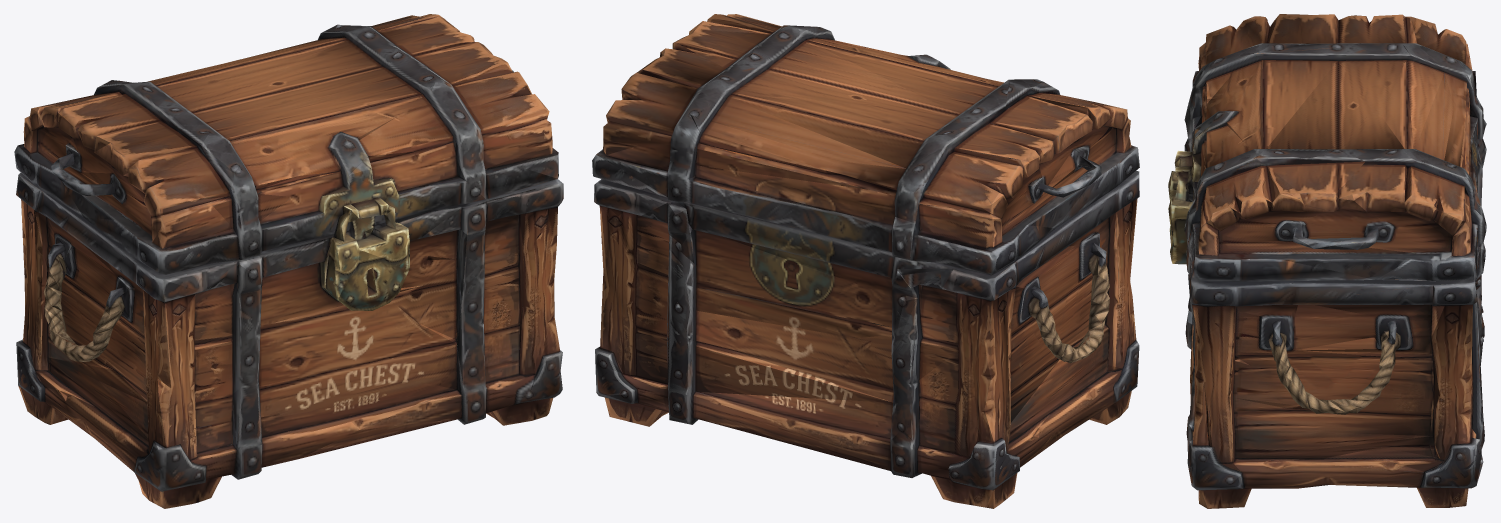
File: Prop_Chest.fbx
3 renders of one model, left to right at view 1: azimuth 30°, elevation 25°; view 2: azimuth 150°, elevation 25°; view 3: azimuth 270°, elevation 25°, orthographic. The views are drawn at different scales.
Parts seen in each view (by area): view 1: Mesh_0; view 2: Mesh_0; view 3: Mesh_0.
Part boxes in pixels (<box>): Mesh_0: <box>14,14,563,508</box>; Mesh_0: <box>592,14,1139,508</box>; Mesh_0: <box>1168,14,1486,508</box>.
Size of the model in its own units: 190 by 133 by 120.
Materials: 1 (1 with a texture image).
